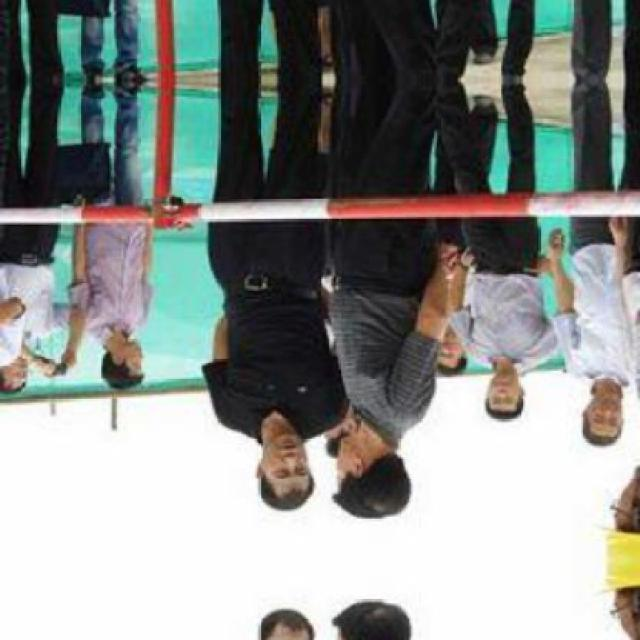sin casco: (332, 461, 422, 543), (76, 352, 162, 410), (256, 433, 310, 518), (468, 382, 540, 438), (404, 346, 467, 395), (570, 419, 623, 466)
